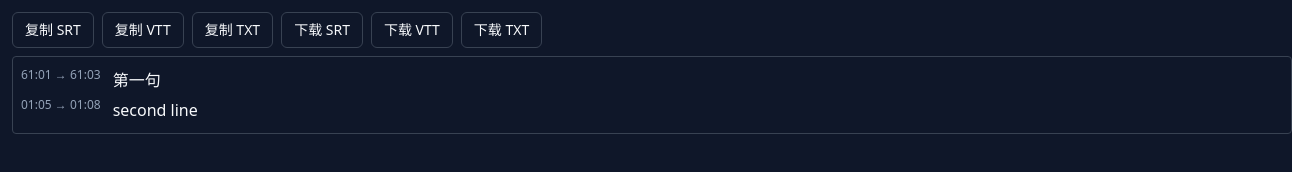
Test: 复制成功（clipboard 路径）→ toast「已复制 SRT」
Click the button "复制 SRT": (53, 30) [12,12,94,48]
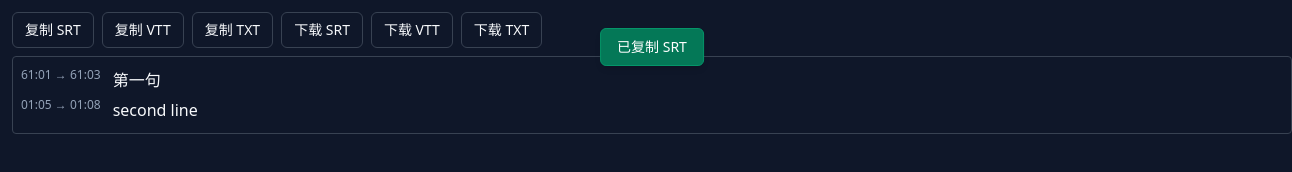
Expected: the text "已复制 SRT" is shown, [600,28,704,66]
